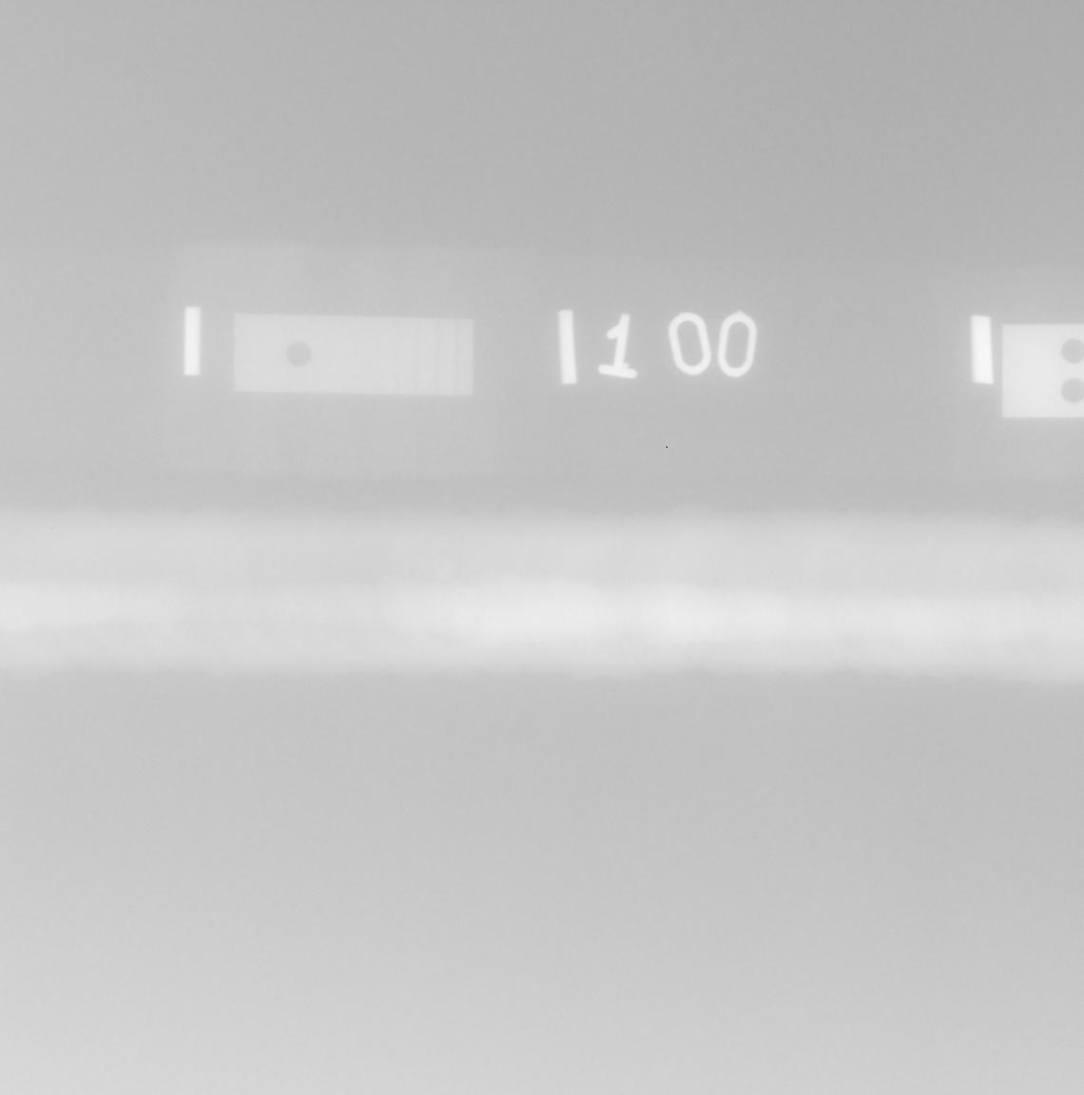Inclusion: (372, 601, 382, 609), (441, 617, 450, 623)
Pore/Porosity: (714, 577, 719, 582)
Reference Standard 1: (232, 313, 474, 396)
